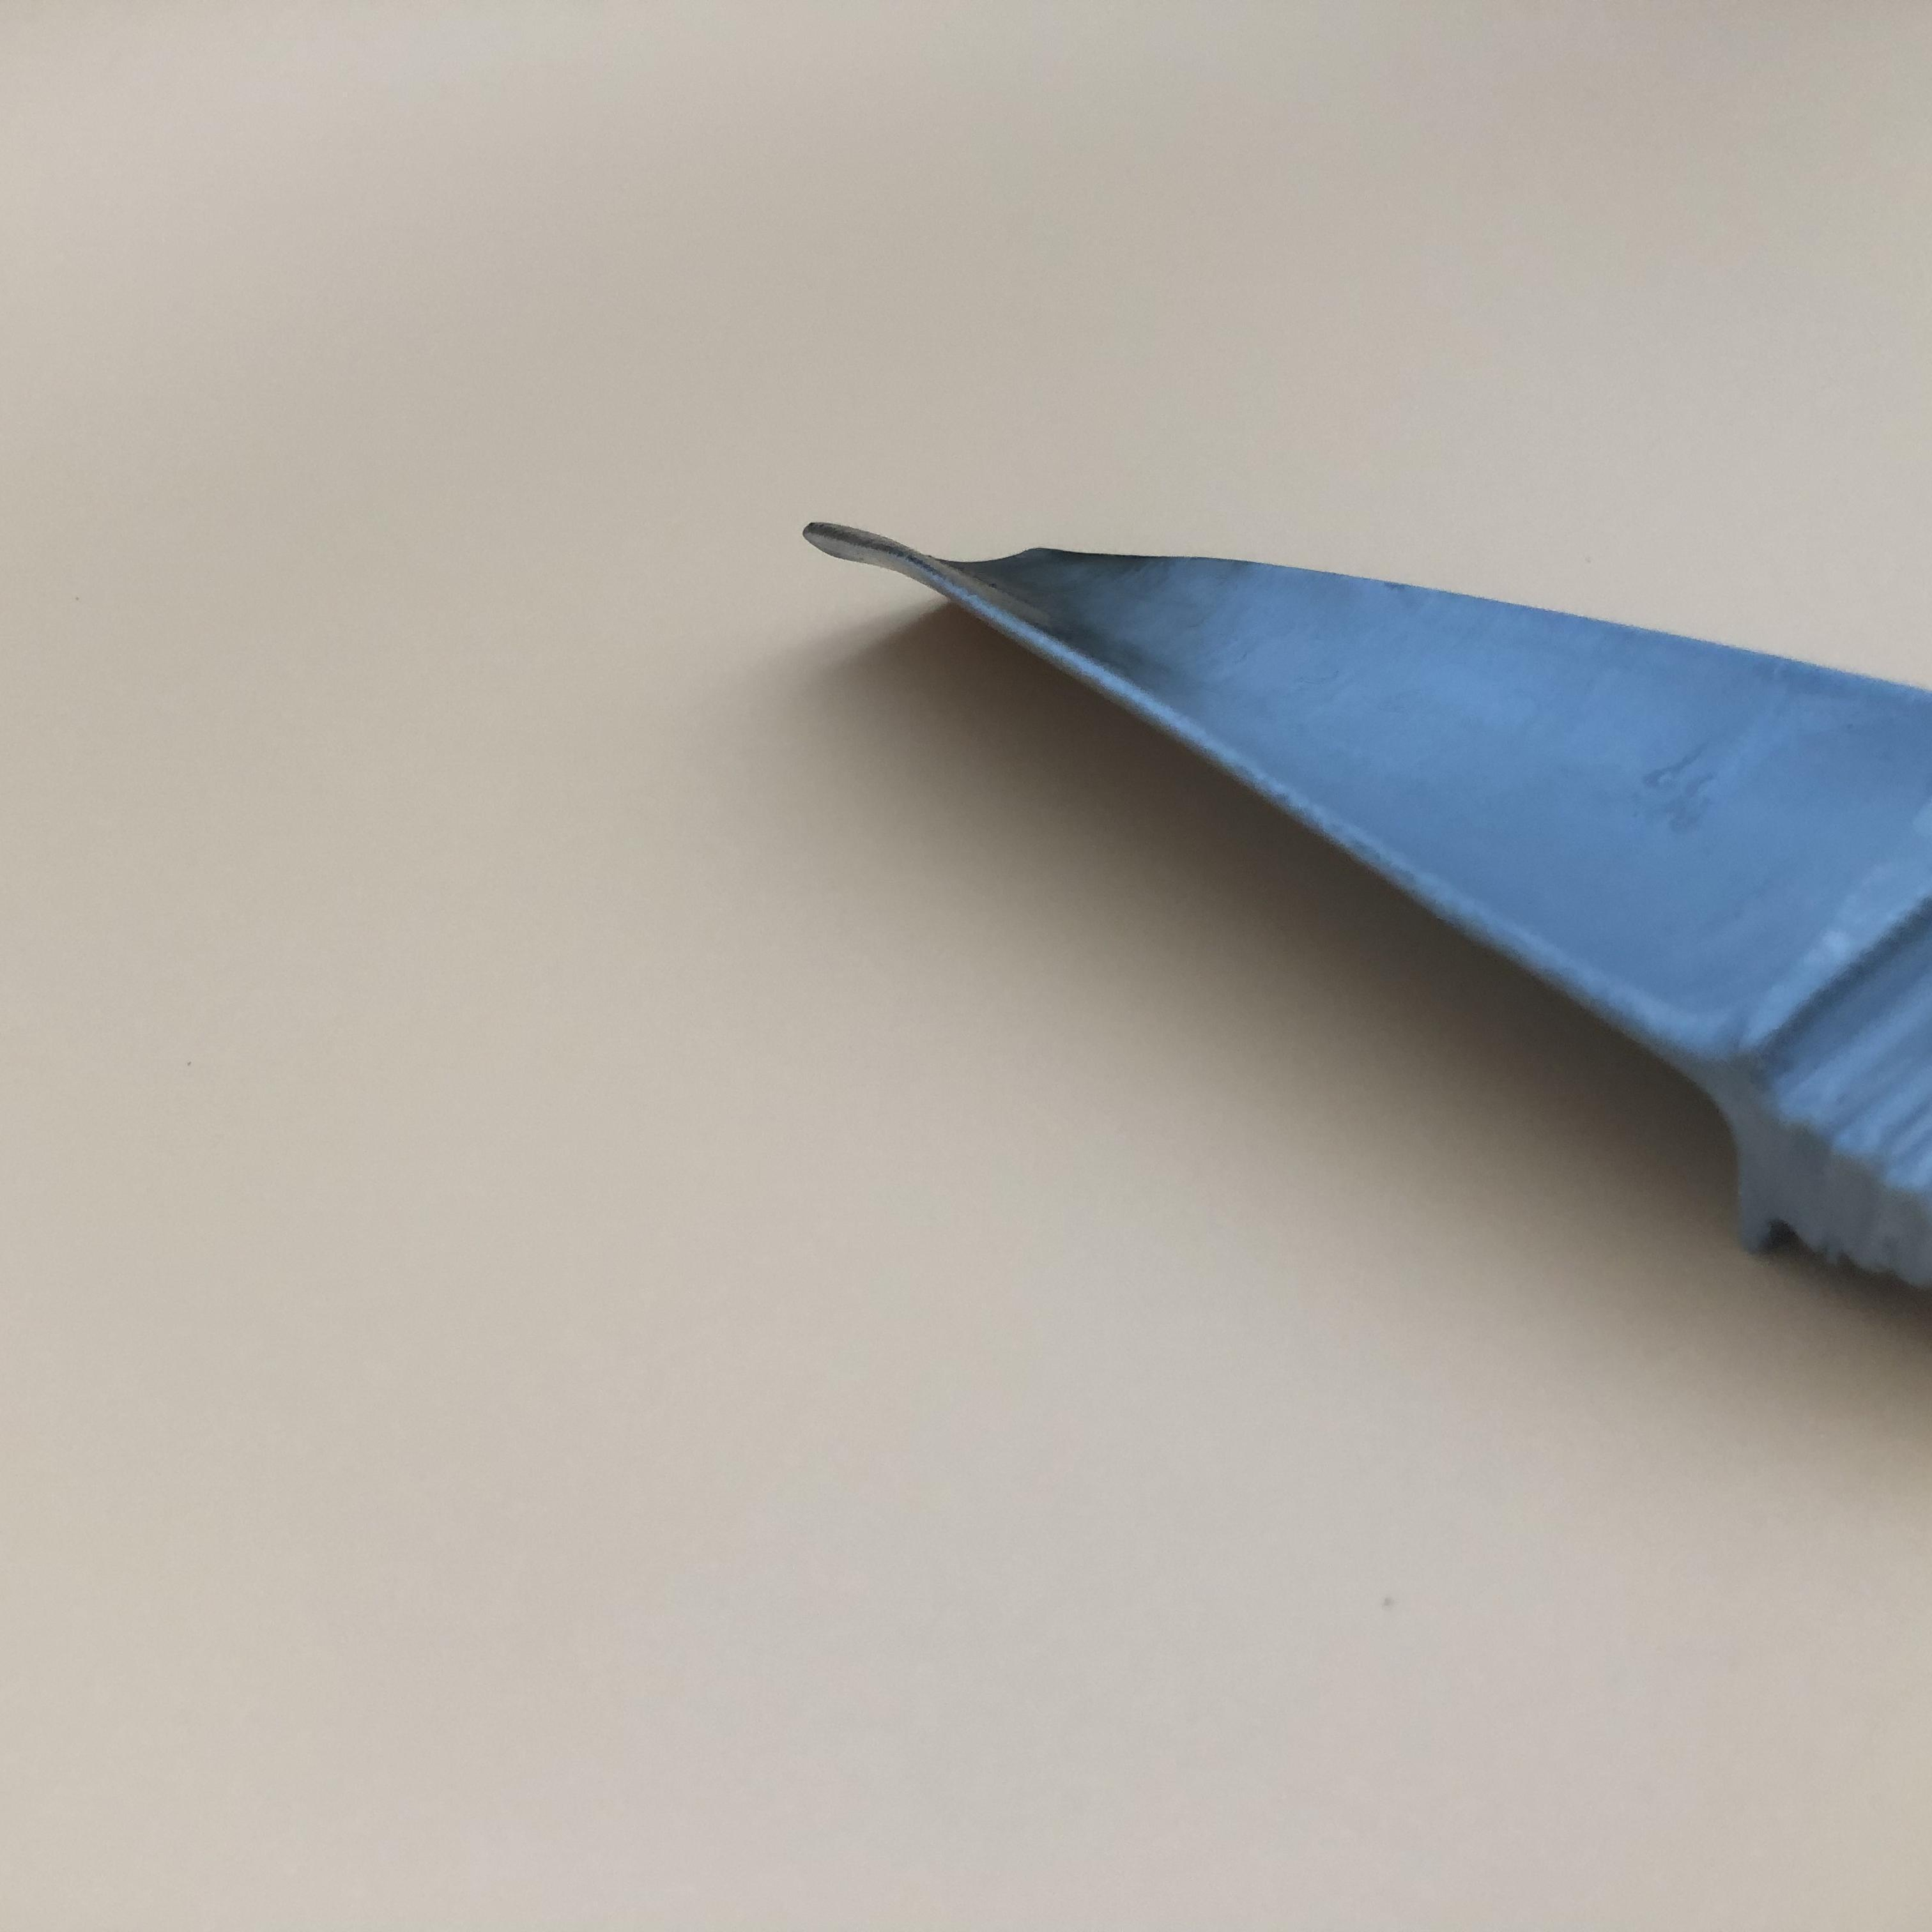ablation: (819, 527, 1219, 681)
